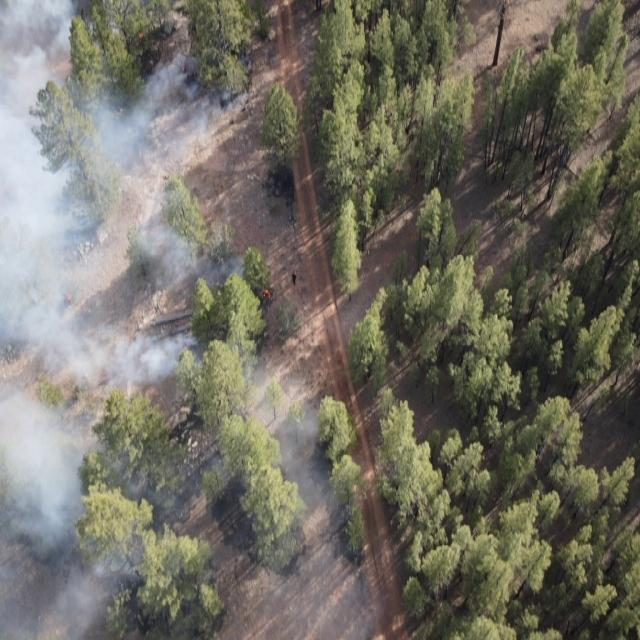fire: (254, 280, 276, 308), (60, 290, 79, 308), (134, 28, 151, 42)
smoke: (1, 0, 247, 640), (247, 350, 372, 640)
